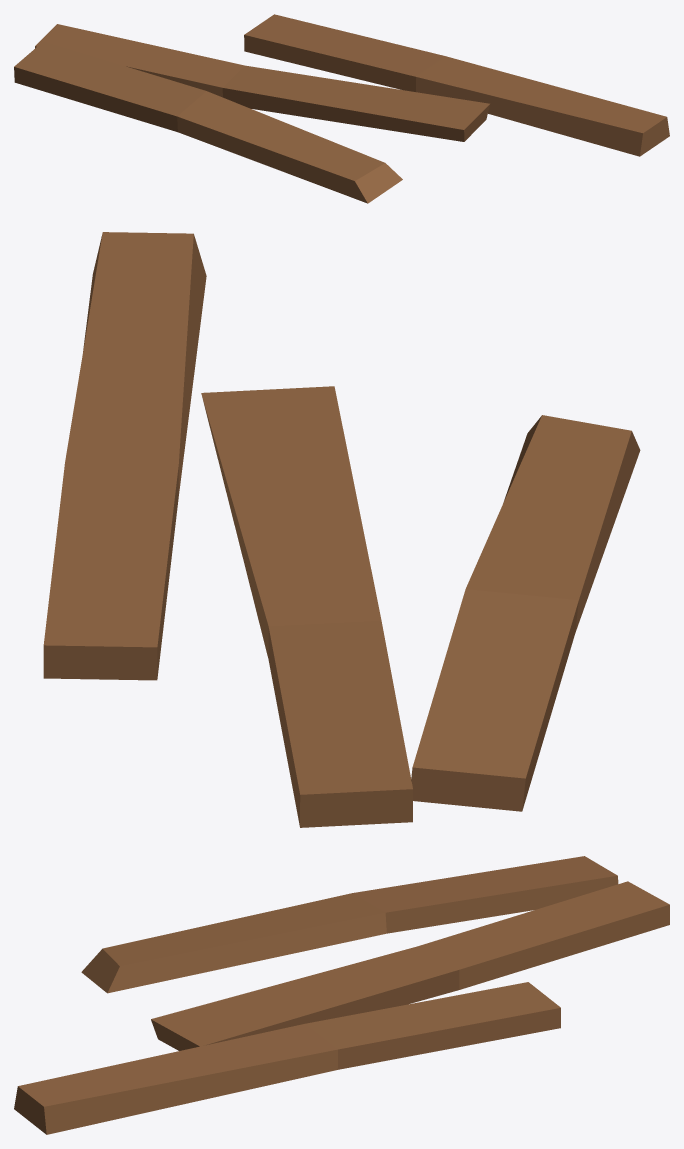
Rendered from yellowpaint.fbx.
3 renders of one model, top to bottom at view 1: azimuth 30°, elevation 25°; view 2: azimuth 150°, elevation 25°; view 3: azimuth 270°, elevation 25°, orthographic. The views are drawn at different scales.
Visible parts, largest first — view 1: Lankku.003; view 2: Lankku.003; view 3: Lankku.003.
Boxes of the visible parts, left/top/right/bottom form: Lankku.003: left=14, top=14, right=669, bottom=203; Lankku.003: left=43, top=232, right=640, bottom=827; Lankku.003: left=14, top=856, right=669, bottom=1134.
Bounding box in the file's own units: 3.62 × 0.2429 × 3.85.
